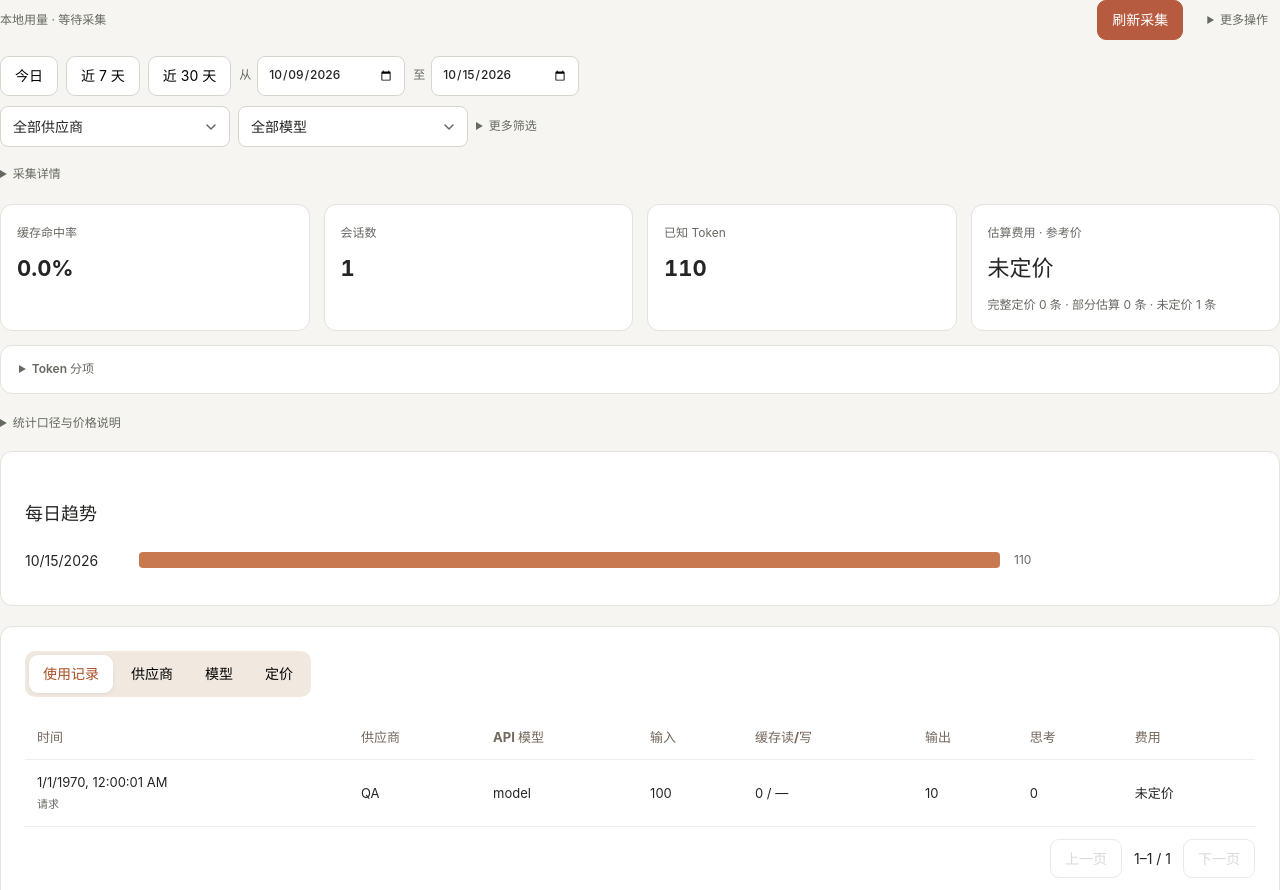
Scenario: settings send workspace revision and prices preserve missing rates
expect the heading "每日趋势" is shown: met, box [25,503,97,524]
Step 1. Click the heading "更多操作" → click(1244, 19), box [1220,12,1268,26]
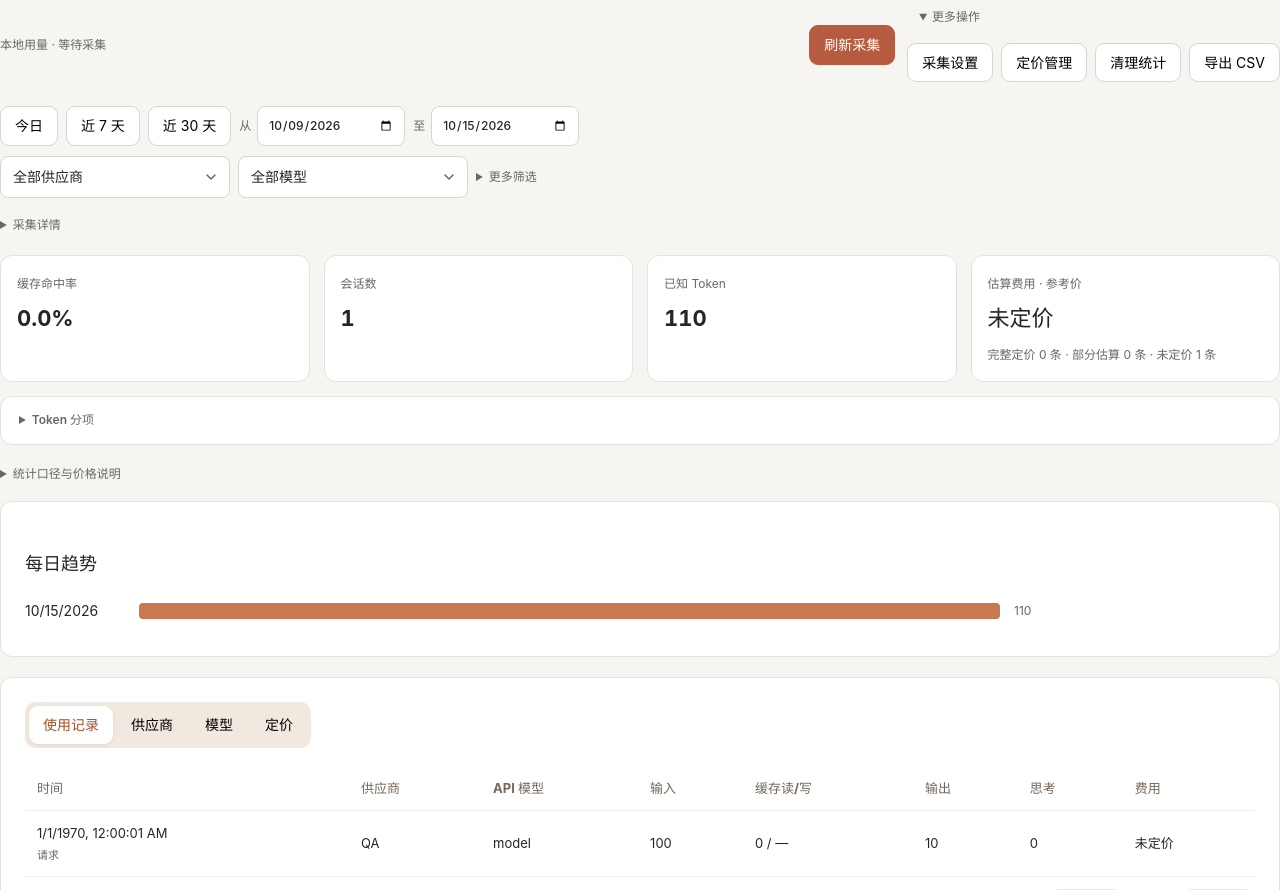
Step 2. Click the button "采集设置" → click(950, 62), box [907,43,993,82]
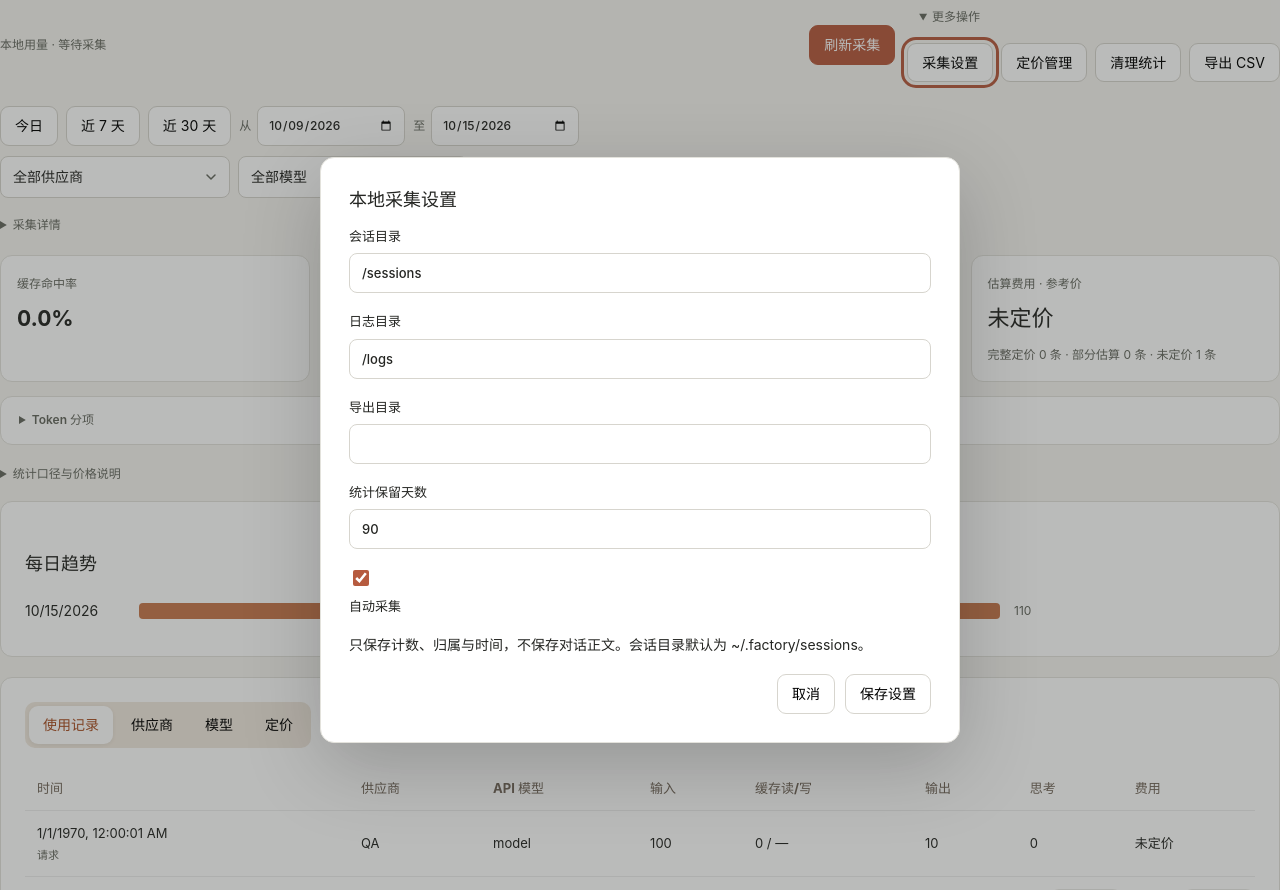
Step 3. Click the button "保存设置" → click(888, 694), box [845,674,931,714]
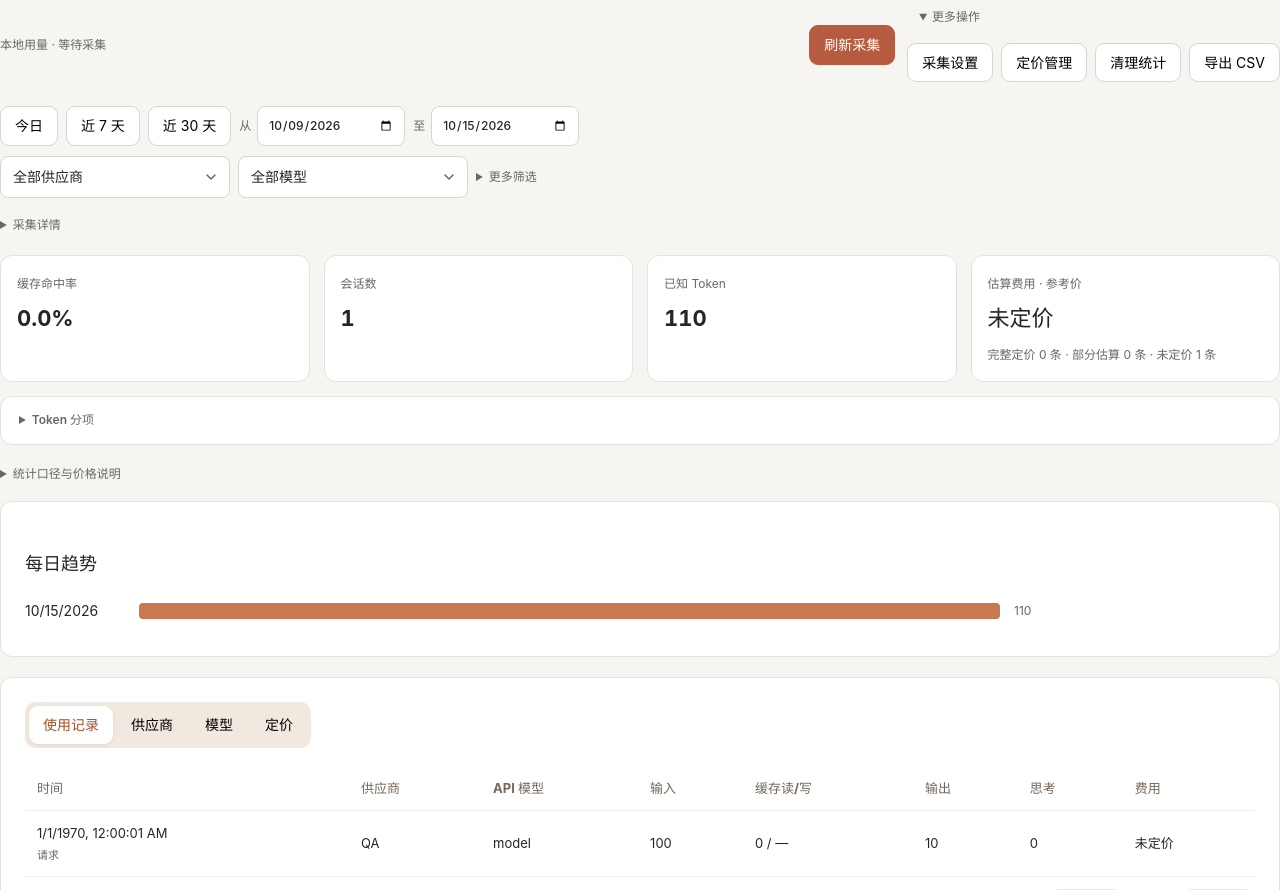
Step 4. Click the button "定价管理" → click(1044, 62), box [1001,43,1087,82]
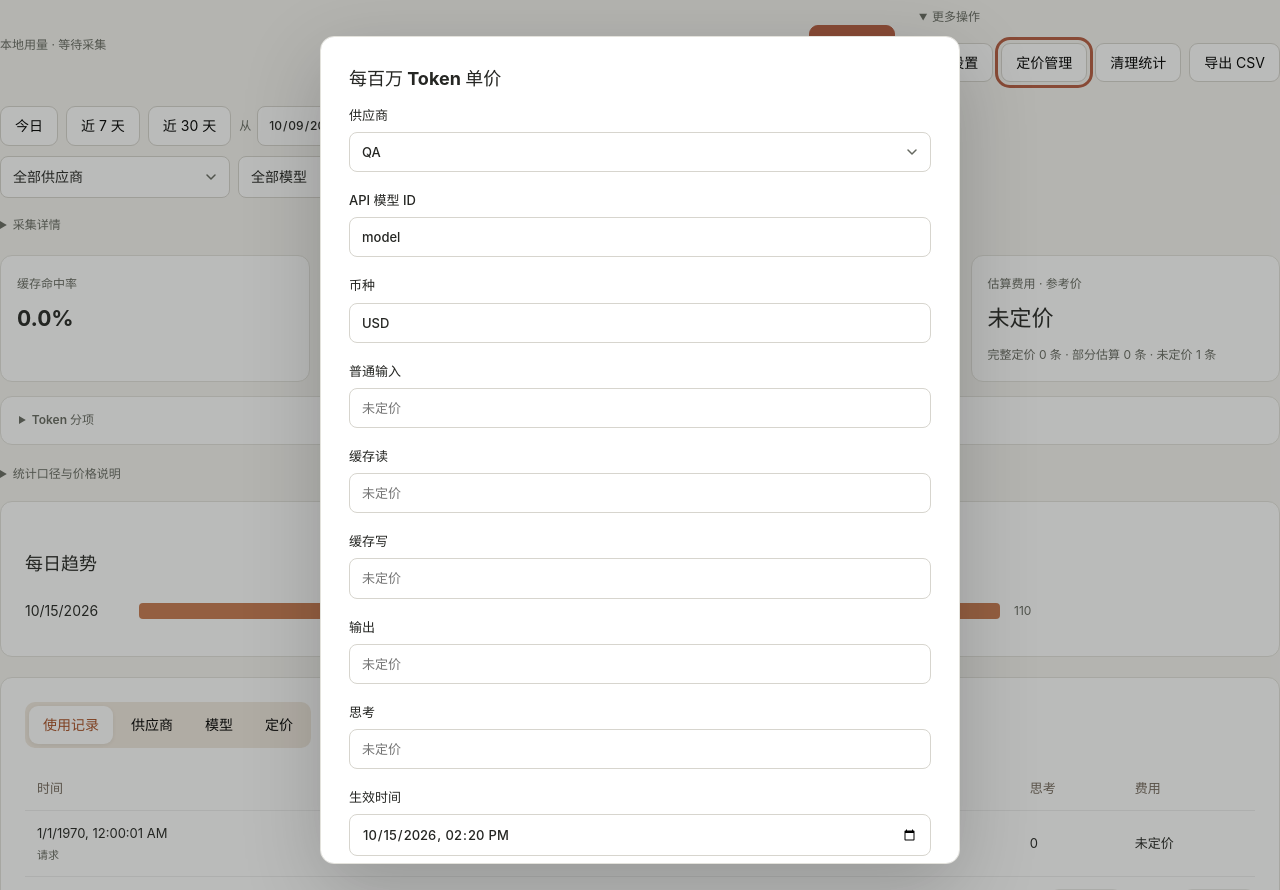
Step 5. Type "1.5" into the number field labelled "普通输入" → (640, 408), box [349,388,931,428]
(page scrolled)
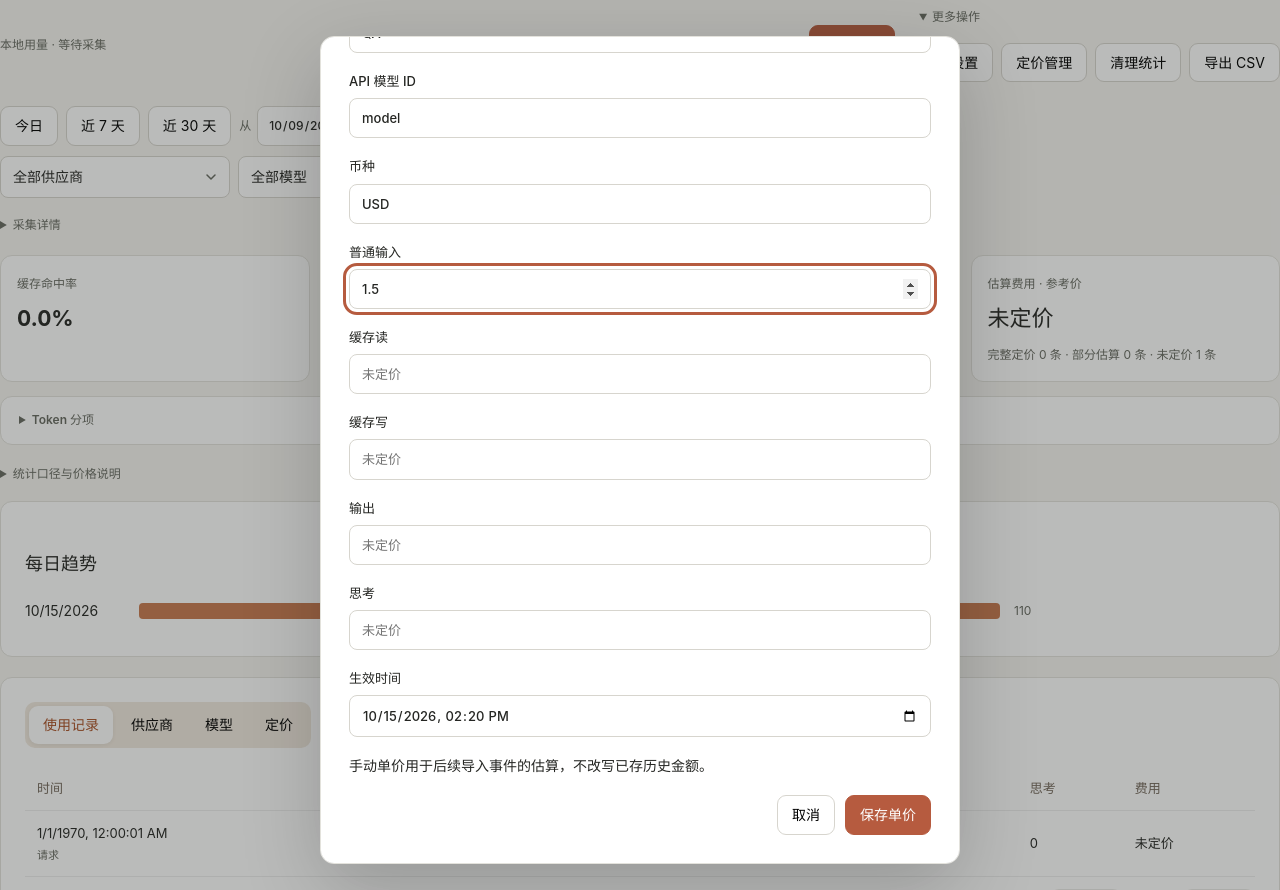
Step 6. Click the button "保存单价" → click(888, 815), box [845,795,931,835]
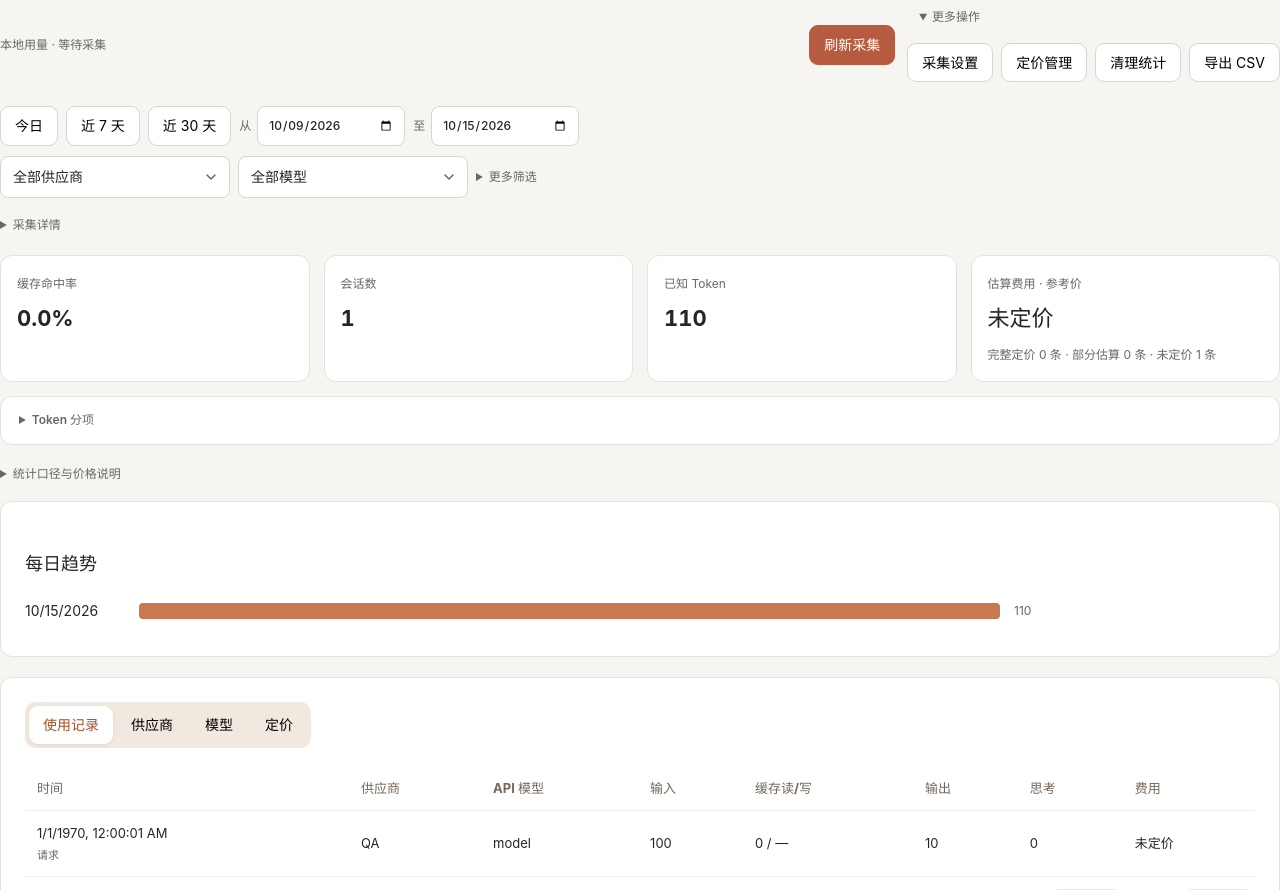
expect the dialog "单价设置" is gone: met
